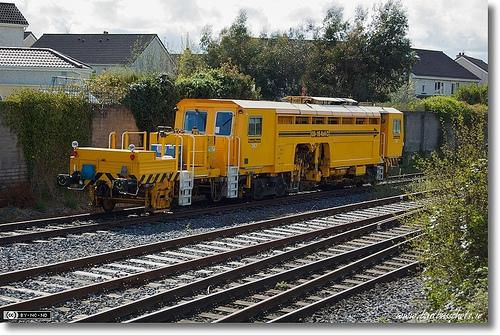Train: (57, 100, 405, 217)
